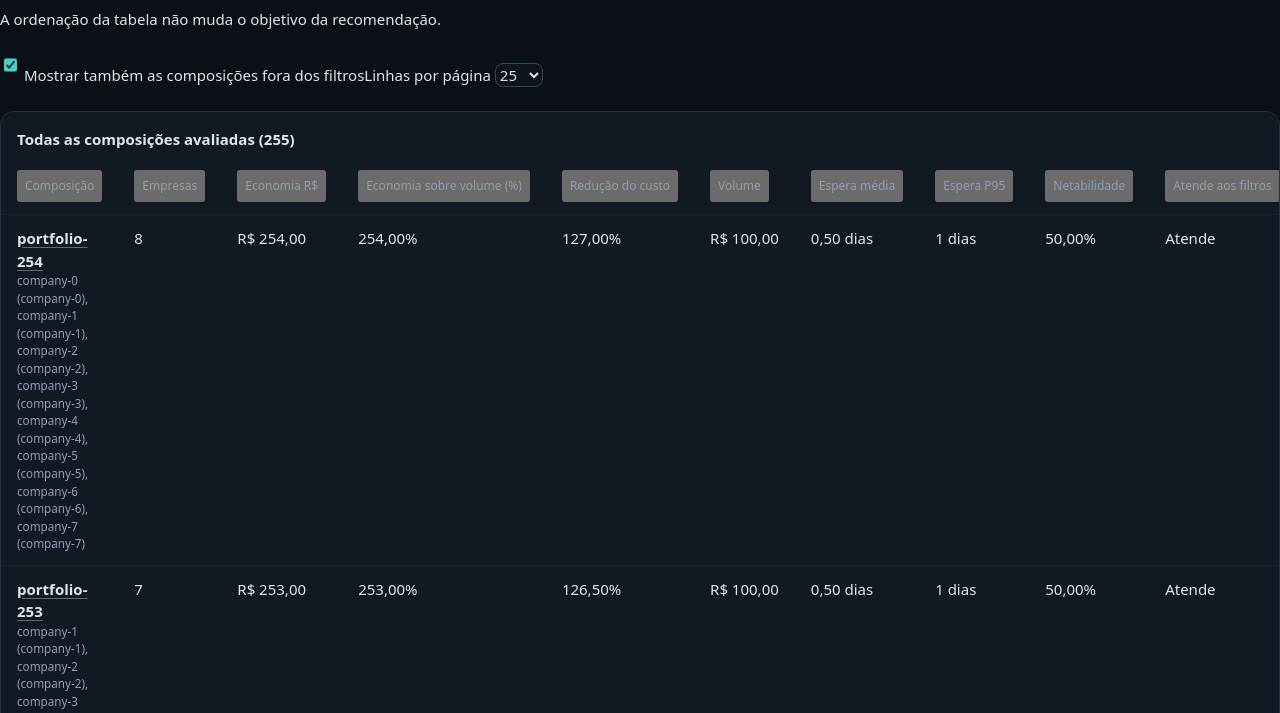
pages all 255 results at 25, 50 and 100 without dropping the last row
Select "50" in the dropdown labelled "Linhas por página" at x=519, y=74, box [495,62,543,86]
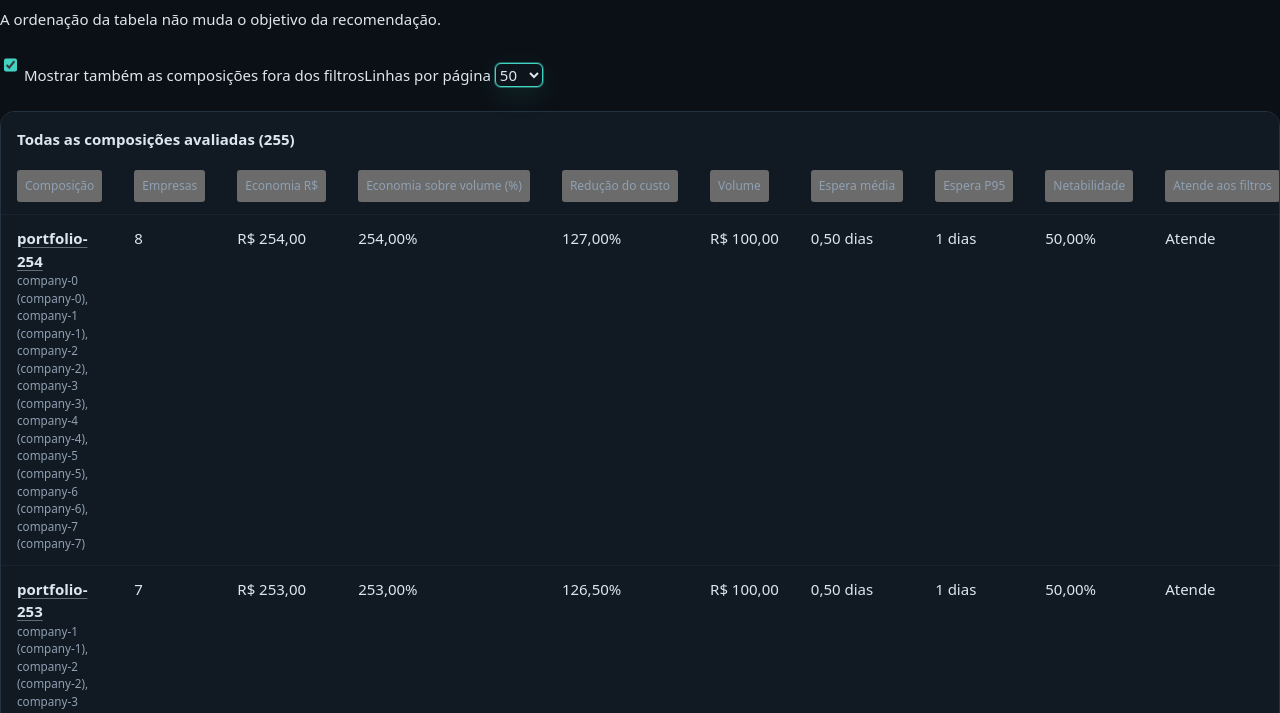
Select "100" in the dropdown labelled "Linhas por página" at x=519, y=74, box [495,62,543,86]
(page scrolled)
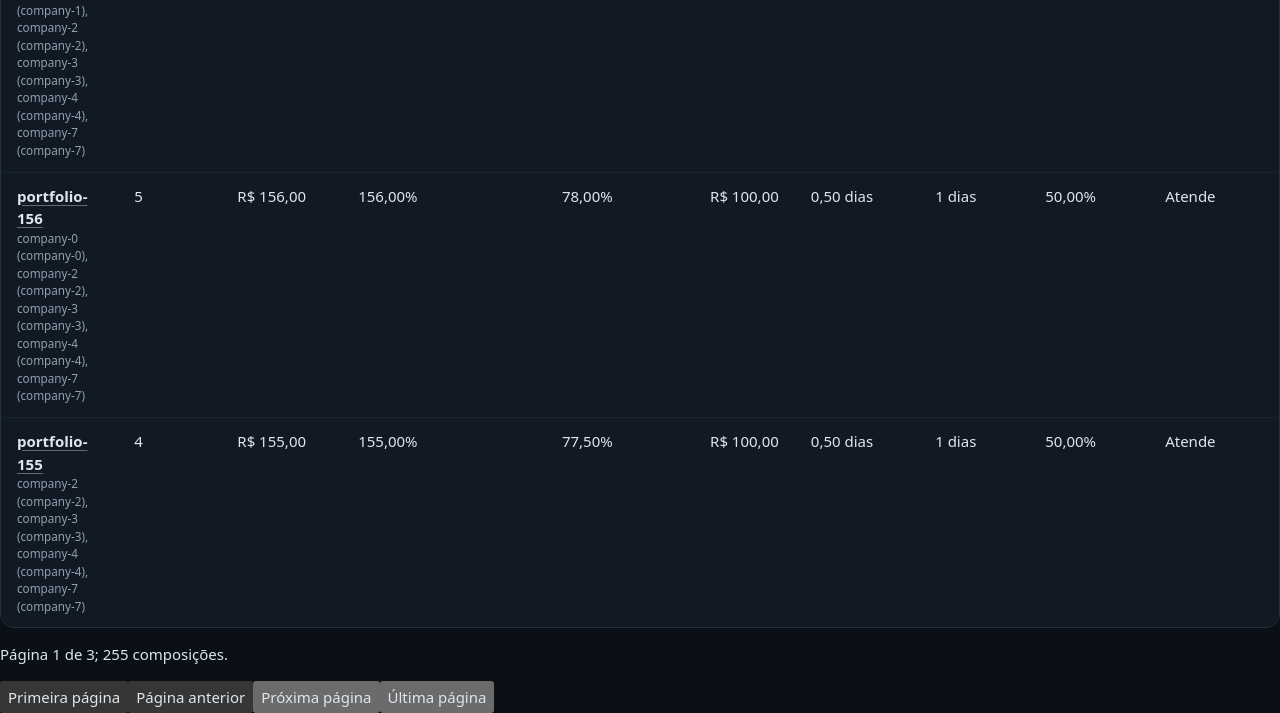
Click the button "Última página" at x=437, y=697, box [380,681,494,712]
(page scrolled)
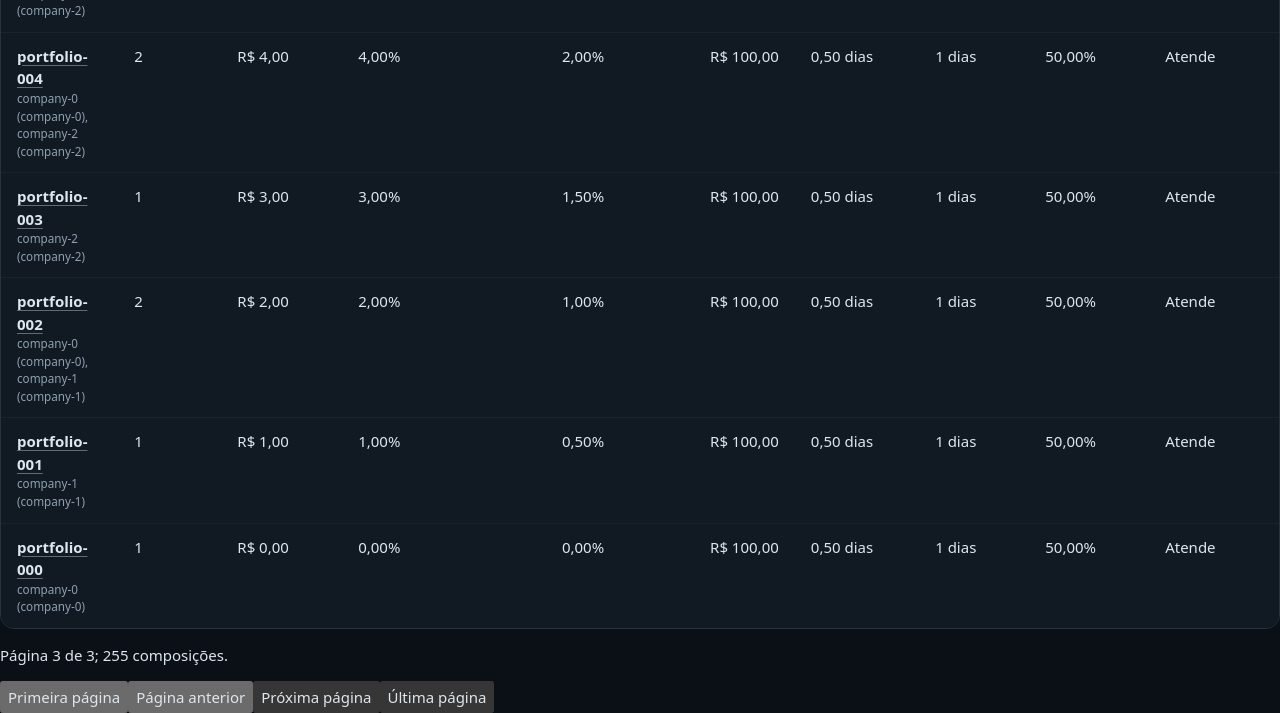
Check: the link "portfolio-000" is shown, box [17,536,88,579]
